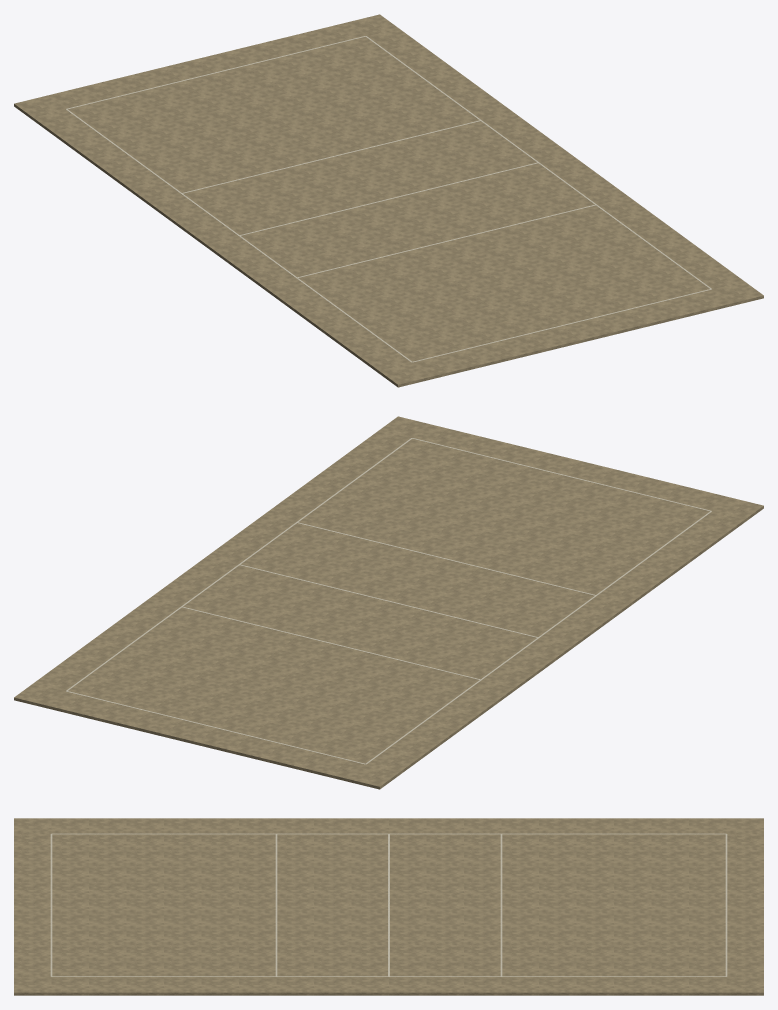
The model's file is volleyball_court.glb.
The picture shows the model from 3 angles, top to bottom: view 1: azimuth 30°, elevation 25°; view 2: azimuth 150°, elevation 25°; view 3: azimuth 270°, elevation 25°; orthographic projection. The views are drawn at different scales.
Visible parts, largest first — view 1: volleyball_court_Mesh; view 2: volleyball_court_Mesh; view 3: volleyball_court_Mesh.
Boxes of the visible parts, x1=… form: volleyball_court_Mesh: x1=14, y1=14, x2=763, y2=387; volleyball_court_Mesh: x1=14, y1=416, x2=763, y2=789; volleyball_court_Mesh: x1=14, y1=818, x2=763, y2=995.
Size of the model in its own units: 11 by 0.092 by 20.
2 materials, 2 textured.
